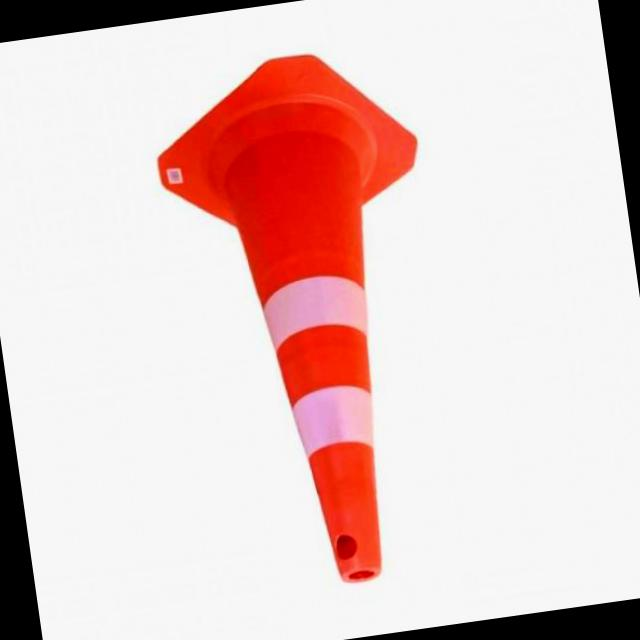cone: (120, 47, 510, 609)
